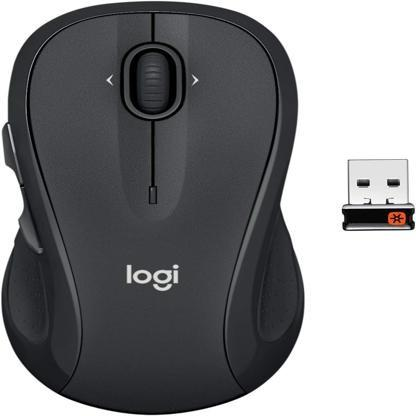not trash: (0, 4, 309, 412), (337, 144, 416, 244)
